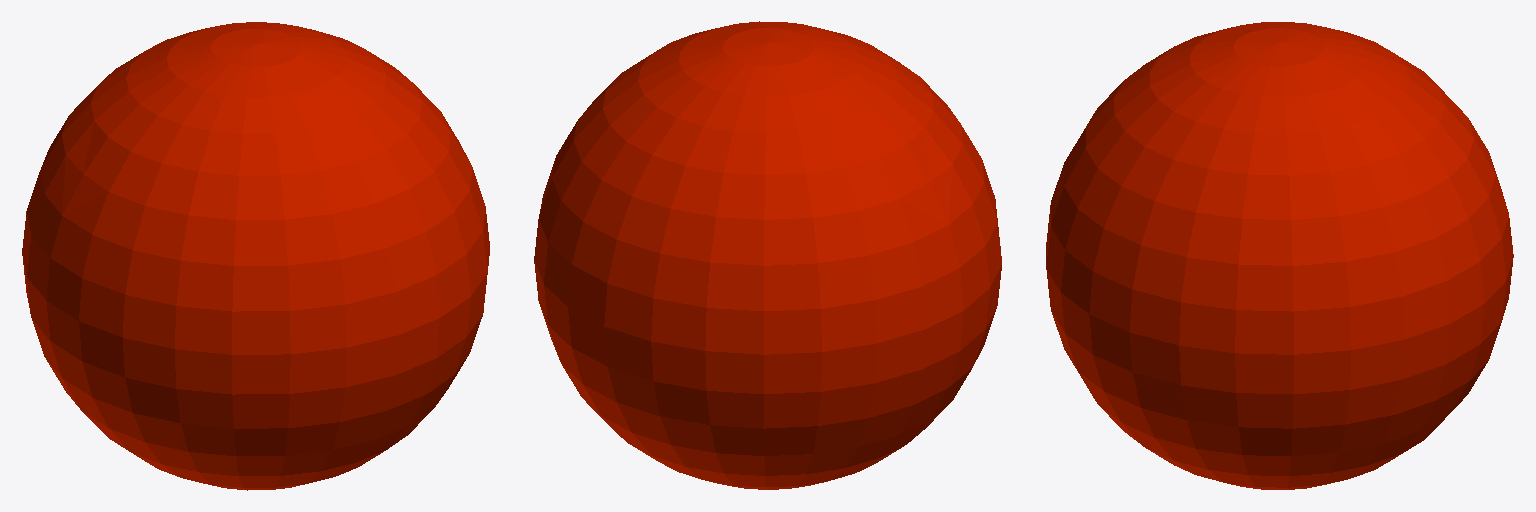
File: orange.obj
3 views of the same model, side by side, from view 1: azimuth 30°, elevation 25°; view 2: azimuth 150°, elevation 25°; view 3: azimuth 270°, elevation 25° (orthographic).
Parts seen in each view (by area): view 1: Sphere_Sphere.001; view 2: Sphere_Sphere.001; view 3: Sphere_Sphere.001.
Part boxes in pixels (x1,y1,x2,y2): Sphere_Sphere.001: (22, 22, 489, 490); Sphere_Sphere.001: (534, 21, 1001, 489); Sphere_Sphere.001: (1046, 22, 1513, 489).
Bounding box in the file's own units: 2 × 2 × 1.99.